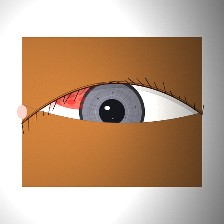hemorrhage_spot: (40, 61, 130, 133)
